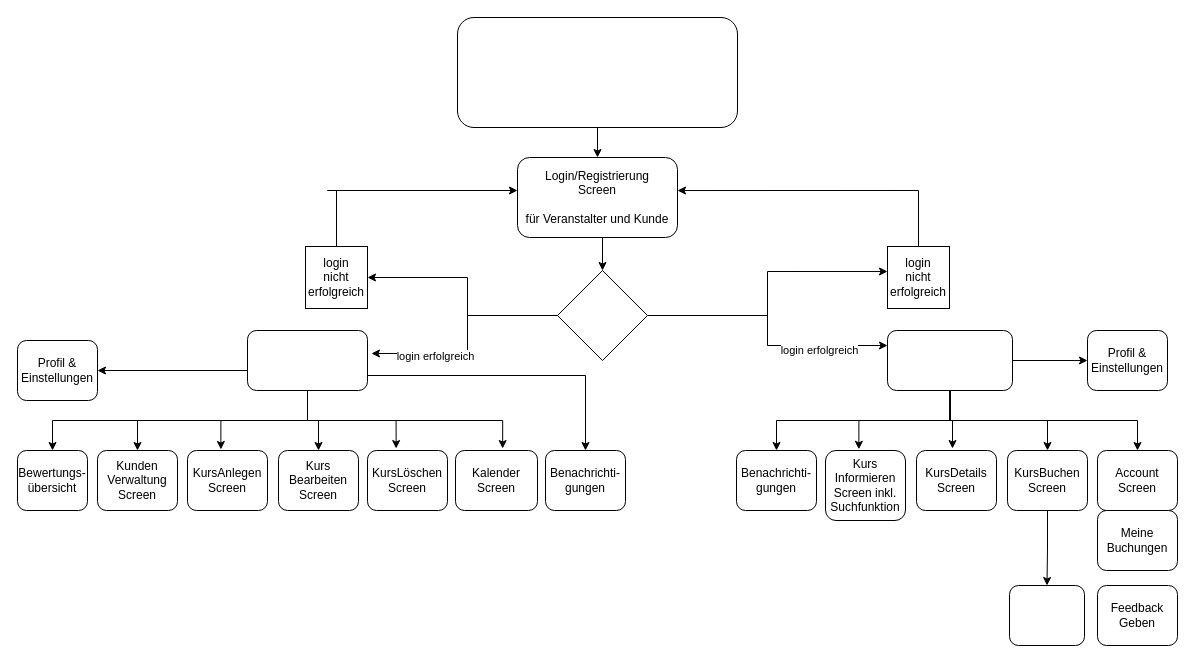
Some shapes in this 1195 by 663 pixel diagram are drawn without their labels. The centre of each missing label's shape, as x and y in pixels:
"Buchungs Beleg Screen" goes at (x=1046, y=615).
"Dashboard Kunde" goes at (x=949, y=360).
"Dashboard Veranstalter" goes at (x=307, y=360).
"Login erfolgreich?" goes at (x=602, y=315).
"Root Widget KursKlickApp Grundkonfiguration der App" goes at (x=597, y=72).
